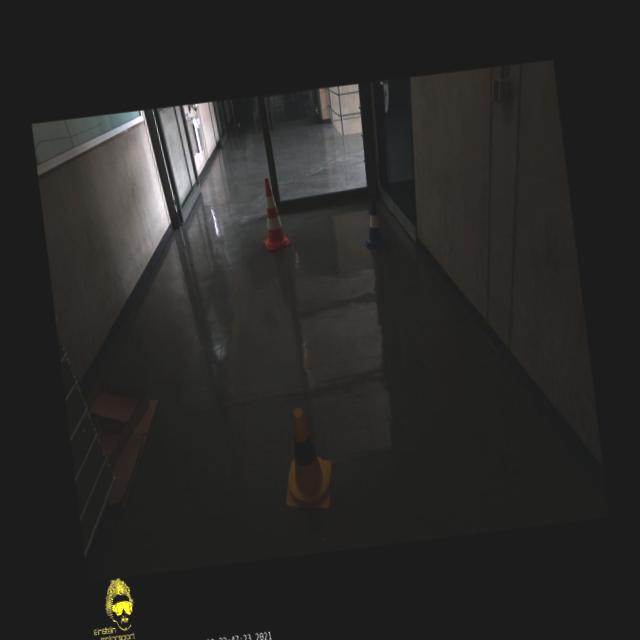blue_cone: (358, 199, 388, 253)
large_orange_cone: (254, 176, 290, 251)
yellow_cone: (275, 404, 336, 514)
